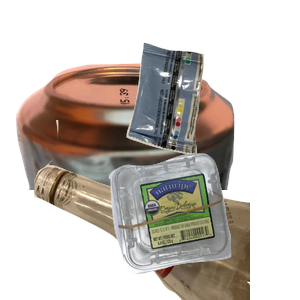glass: (31, 120, 271, 300)
metal: (13, 61, 240, 241)
plastic: (106, 151, 300, 300)
trash: (124, 40, 300, 188)
